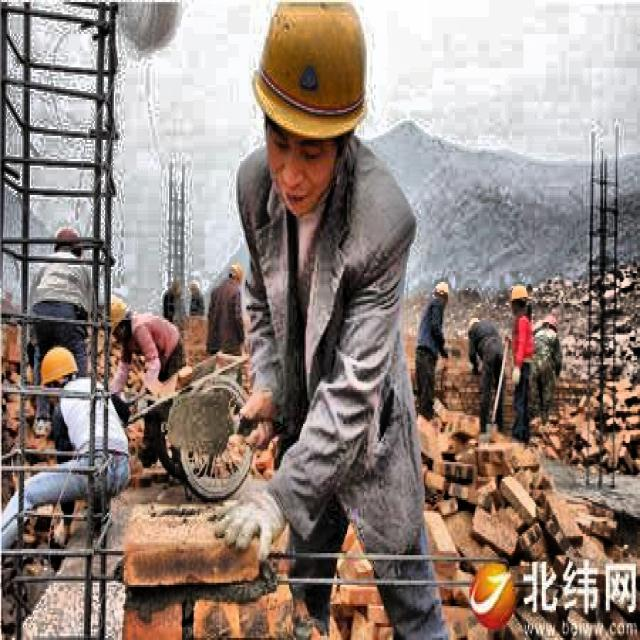helmet: (243, 2, 380, 223), (39, 343, 80, 405), (100, 288, 135, 346), (50, 216, 87, 263), (510, 280, 532, 318), (223, 258, 245, 290)
